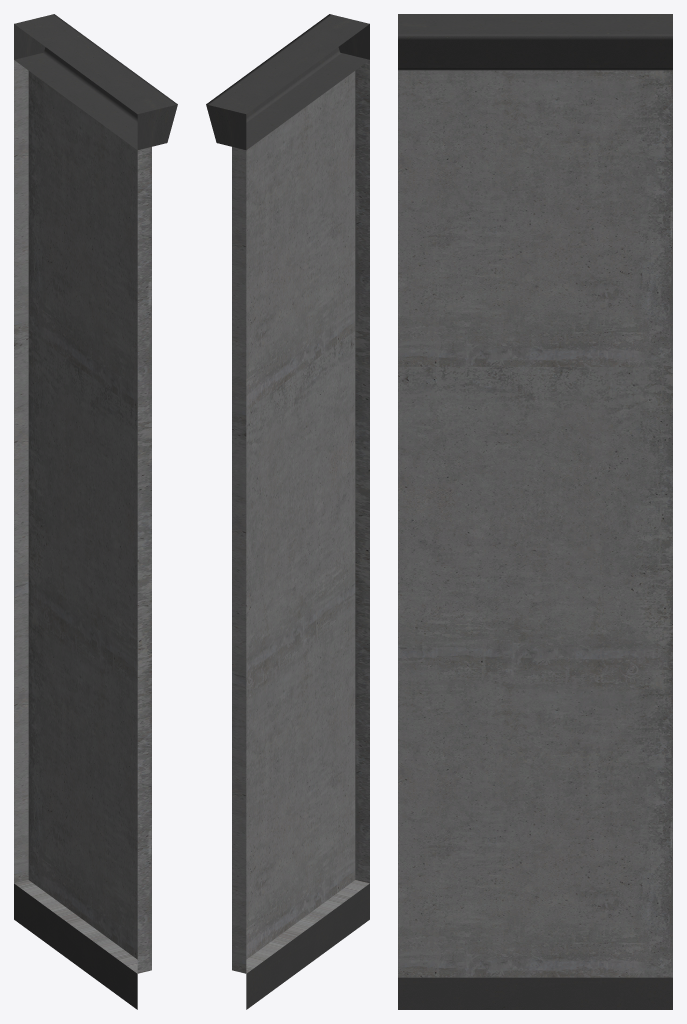
Rendered from SM_dev_wall_100_x_400_R.fbx.
3 renders of one model, left to right at view 1: azimuth 30°, elevation 25°; view 2: azimuth 150°, elevation 25°; view 3: azimuth 270°, elevation 25°, orthographic. The views are drawn at different scales.
Visible parts, largest first — view 1: polySurface591, polySurface595; view 2: polySurface591, polySurface595; view 3: polySurface591, polySurface595.
Boxes of the visible parts, x1=… form: polySurface591: x1=14, y1=60, x2=151, y2=973; polySurface595: x1=14, y1=14, x2=177, y2=1009; polySurface591: x1=232, y1=60, x2=369, y2=973; polySurface595: x1=206, y1=14, x2=369, y2=1009; polySurface591: x1=398, y1=70, x2=672, y2=977; polySurface595: x1=398, y1=14, x2=672, y2=1009.
Bounding box in the file's own units: 0.1891 × 4 × 1.
